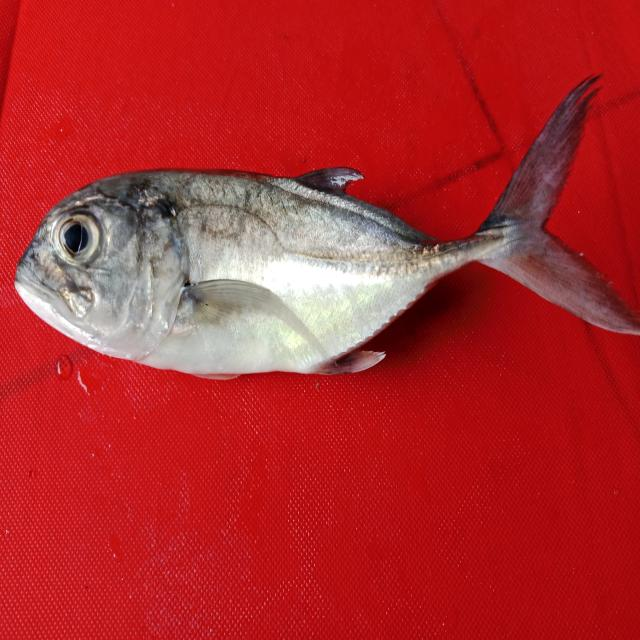ikan: (14, 70, 638, 378)
